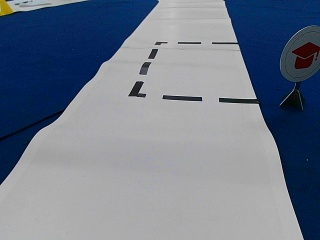school: (280, 25, 319, 81)
